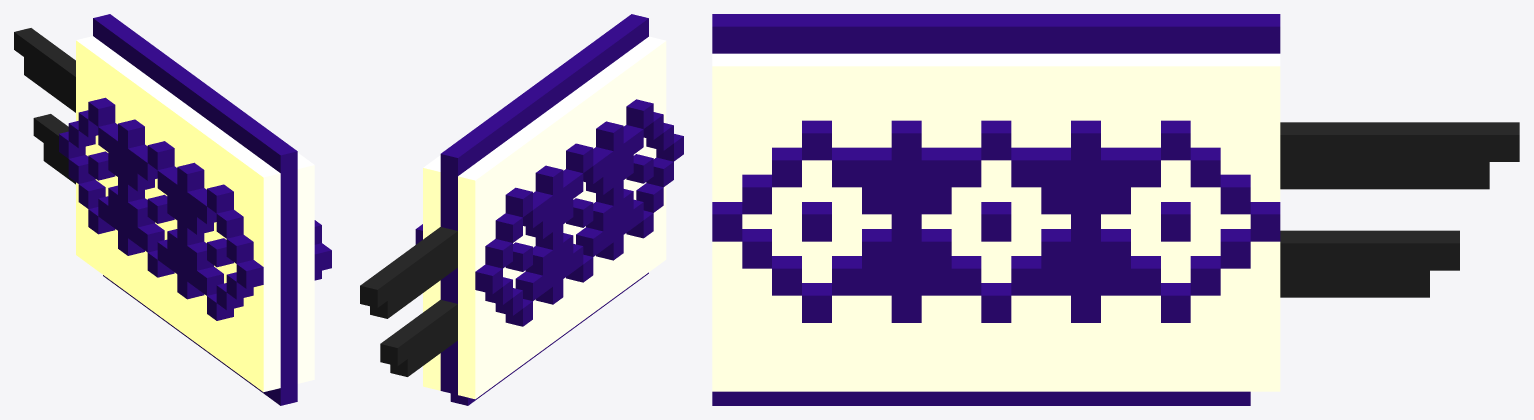
File: oooSign.glb
The picture shows the model from 3 angles, left to right: view 1: azimuth 30°, elevation 25°; view 2: azimuth 150°, elevation 25°; view 3: azimuth 270°, elevation 25°; orthographic projection. The views are drawn at different scales.
Visible parts, largest first — view 1: ObjObject; view 2: ObjObject; view 3: ObjObject.
Part boxes in pixels (box(x1,y1,x2,y2)): ObjObject: box(14, 14, 331, 405); ObjObject: box(360, 14, 683, 405); ObjObject: box(712, 14, 1519, 405).
Bounding box in the file's own units: 0.5 × 1.4 × 2.7.
Materials: 2 (1 with a texture image).
